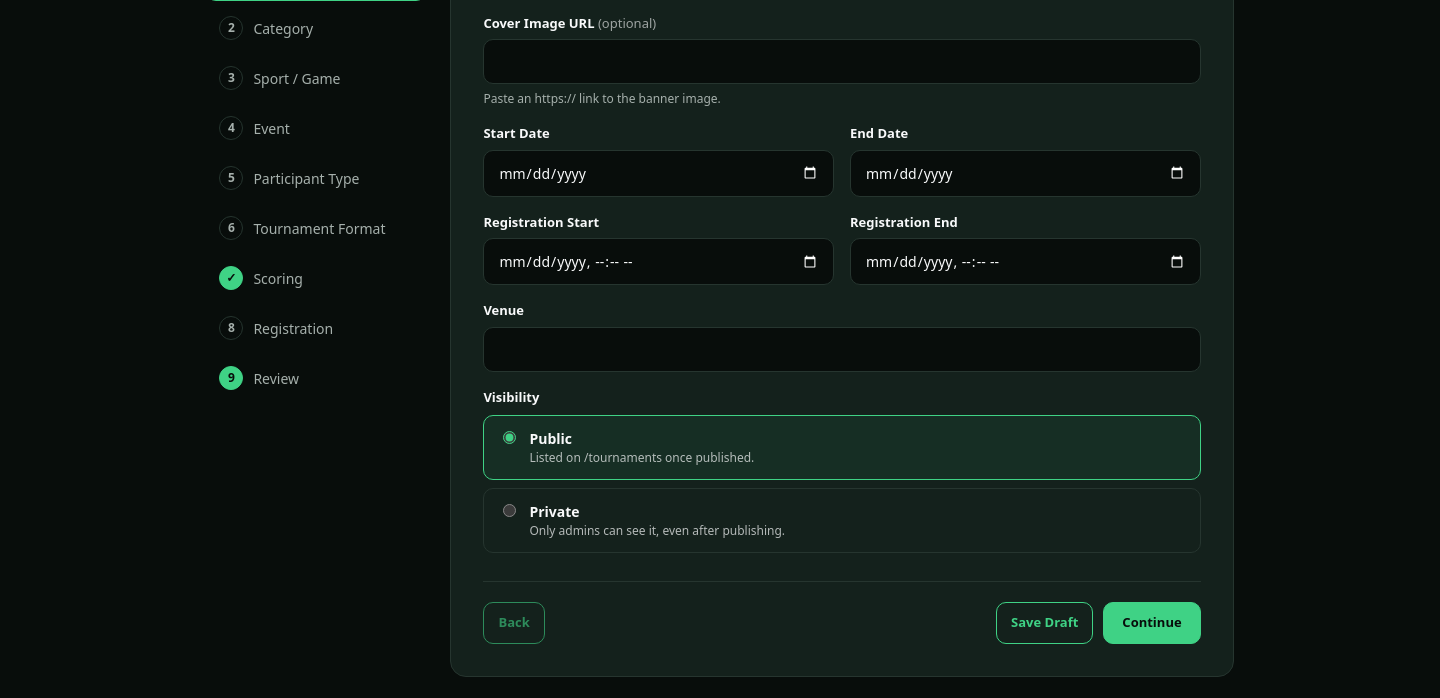
Test: TournamentWizardPage › shows the database error if a save is rejected
(page scrolled)
Click the button "Save Draft": point(1045, 623) x1=996 y1=602 x2=1093 y2=644
(page scrolled)
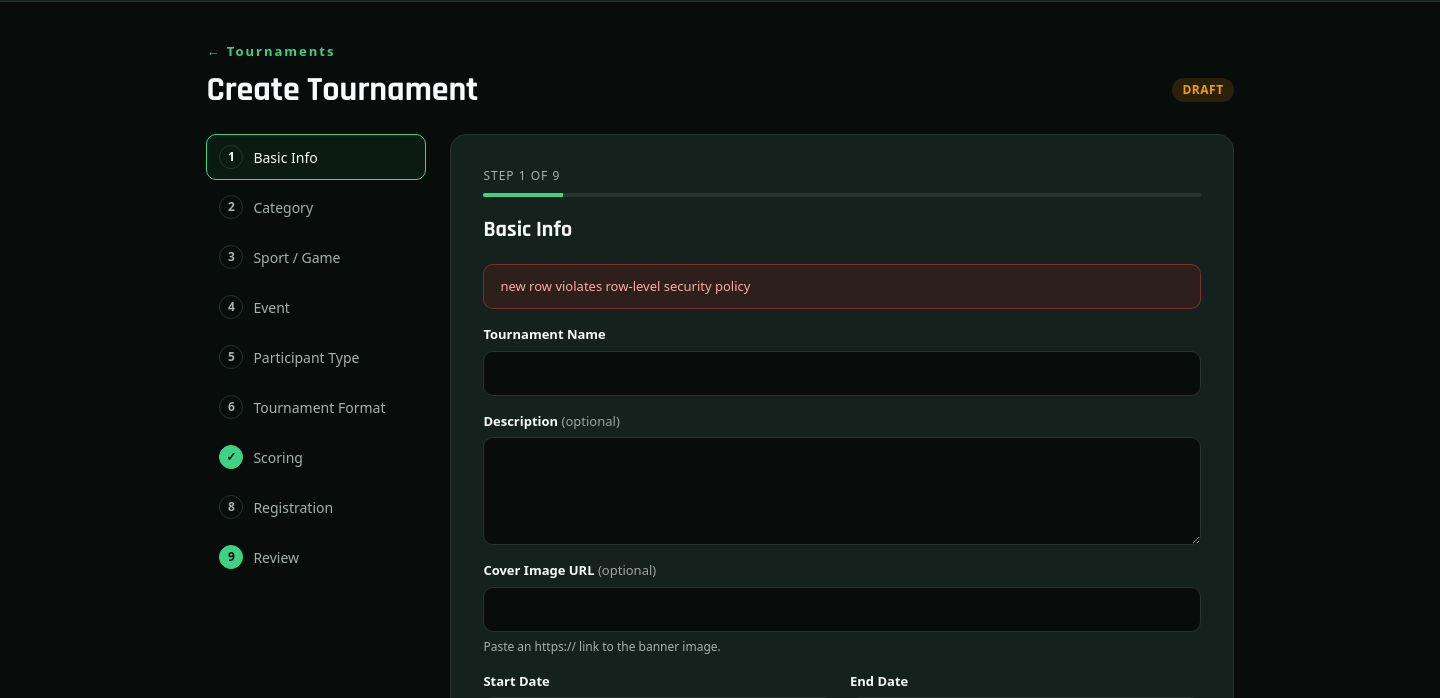
Result: the text "new row violates row-level security policy" is shown at x1=483 y1=264 x2=1201 y2=309
